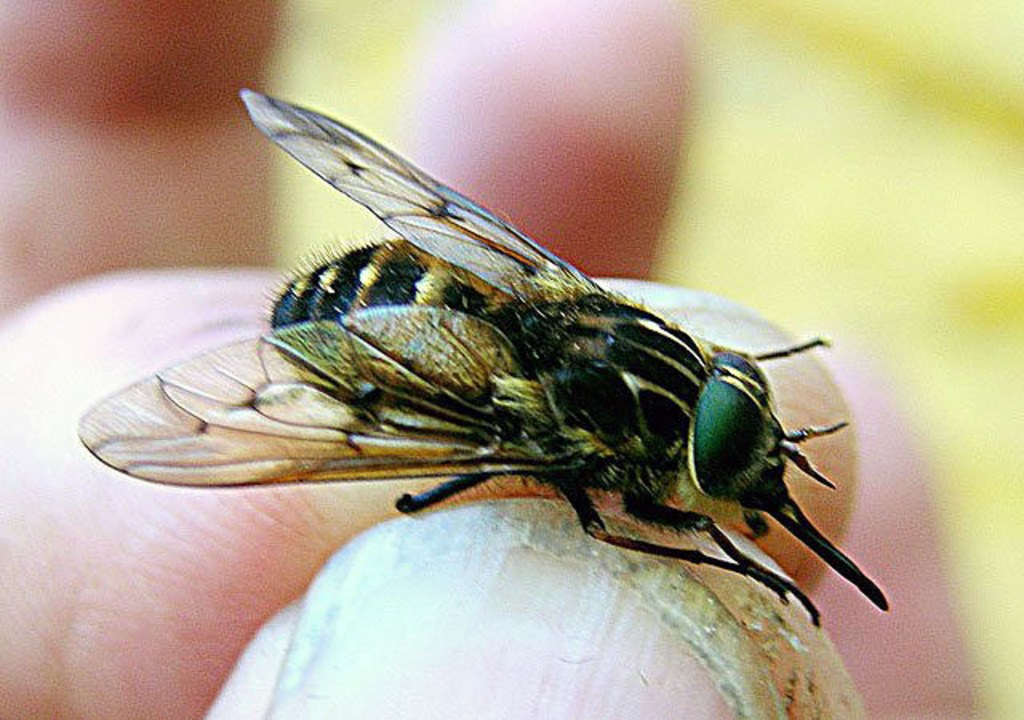bee: (74, 85, 899, 624)
